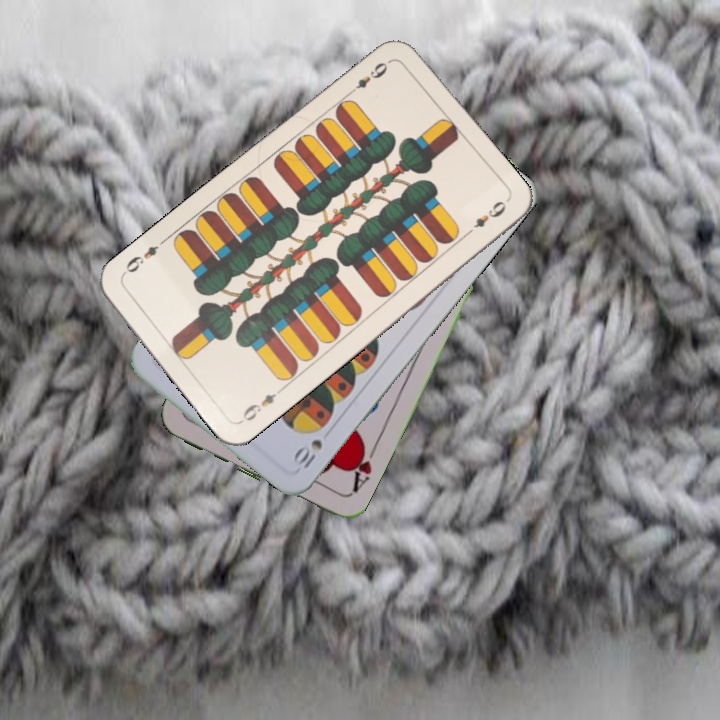E9: (345, 55, 394, 98), (236, 383, 286, 425)
HA: (345, 438, 379, 498)
S10: (291, 435, 325, 472)
